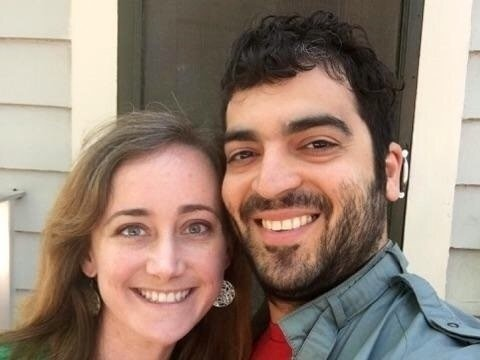face_no_mask: (219, 19, 404, 299), (77, 122, 226, 344)
